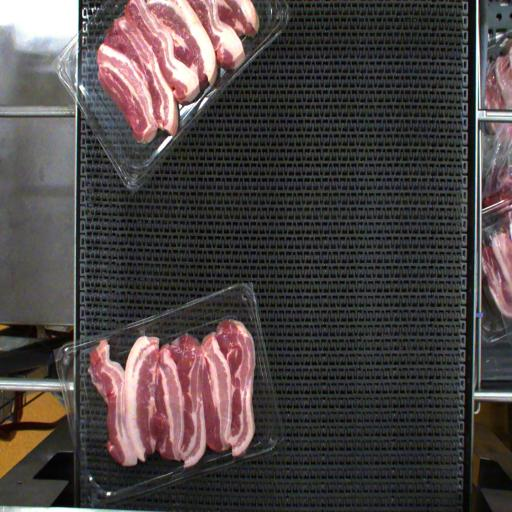packaging-error: (134, 324, 146, 337)
